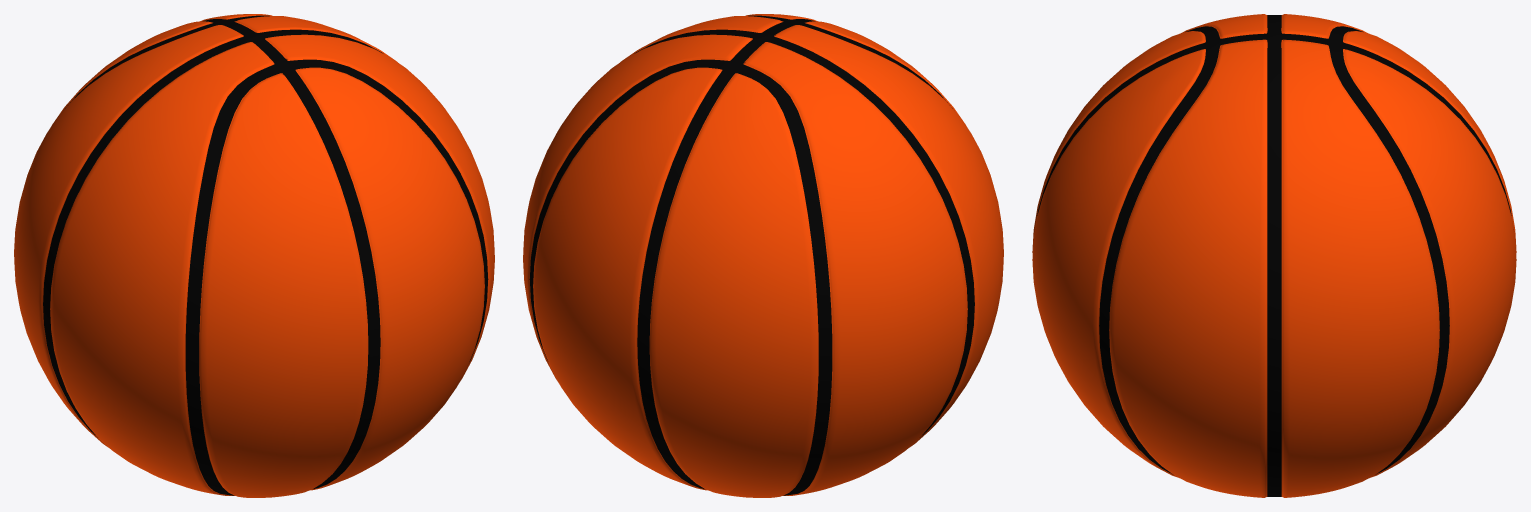
File: Basketball.obj
3 views of the same model, side by side, from view 1: azimuth 30°, elevation 25°; view 2: azimuth 150°, elevation 25°; view 3: azimuth 270°, elevation 25° (orthographic).
Parts seen in each view (by area): view 1: Basketball; view 2: Basketball; view 3: Basketball.
Part boxes in pixels (x1,y1,x2,y2): Basketball: [14, 14, 494, 497]; Basketball: [523, 14, 1003, 497]; Basketball: [1032, 14, 1516, 497].
Size of the model in its own units: 193 by 193 by 193.
